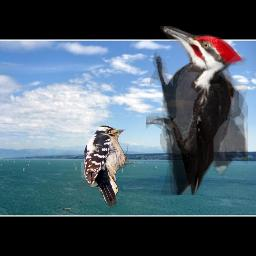Woodpecker: (146, 26, 248, 195), (81, 124, 137, 208)
